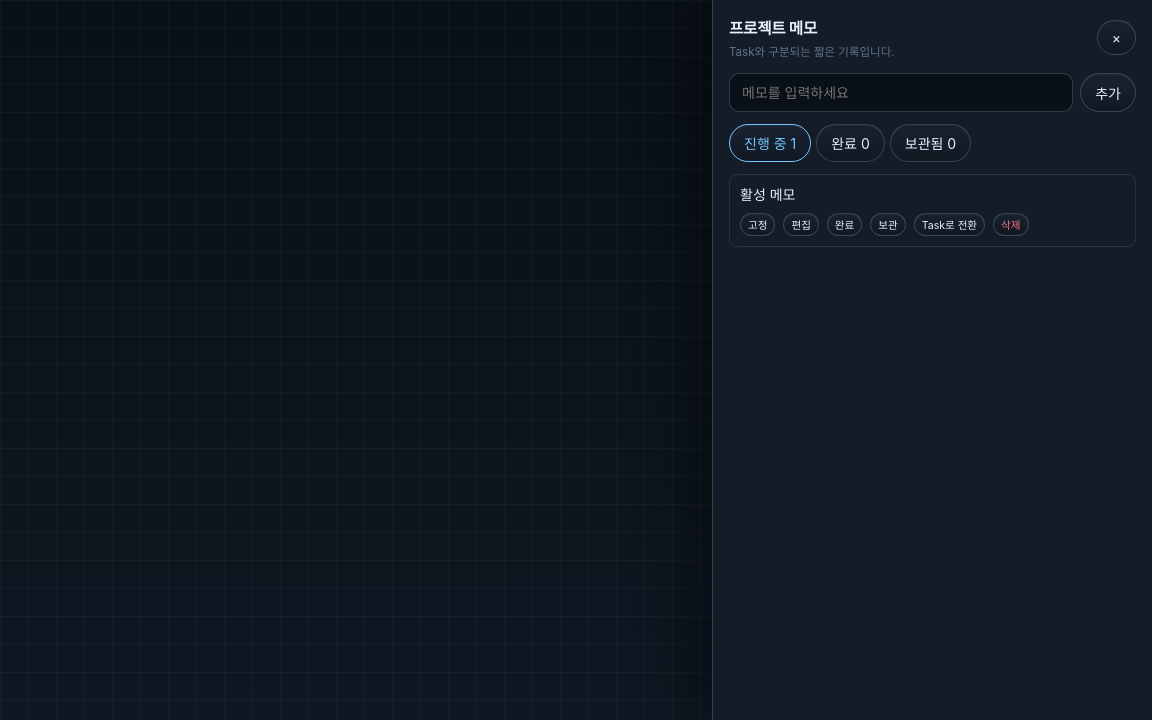
Test: ProjectNotesDrawer › keeps the edit draft visible when an update fails
This screenshot has width=1152, height=720.
Click the button "편집" at (801, 225), box top-left (783, 213), bottom-right (819, 236)
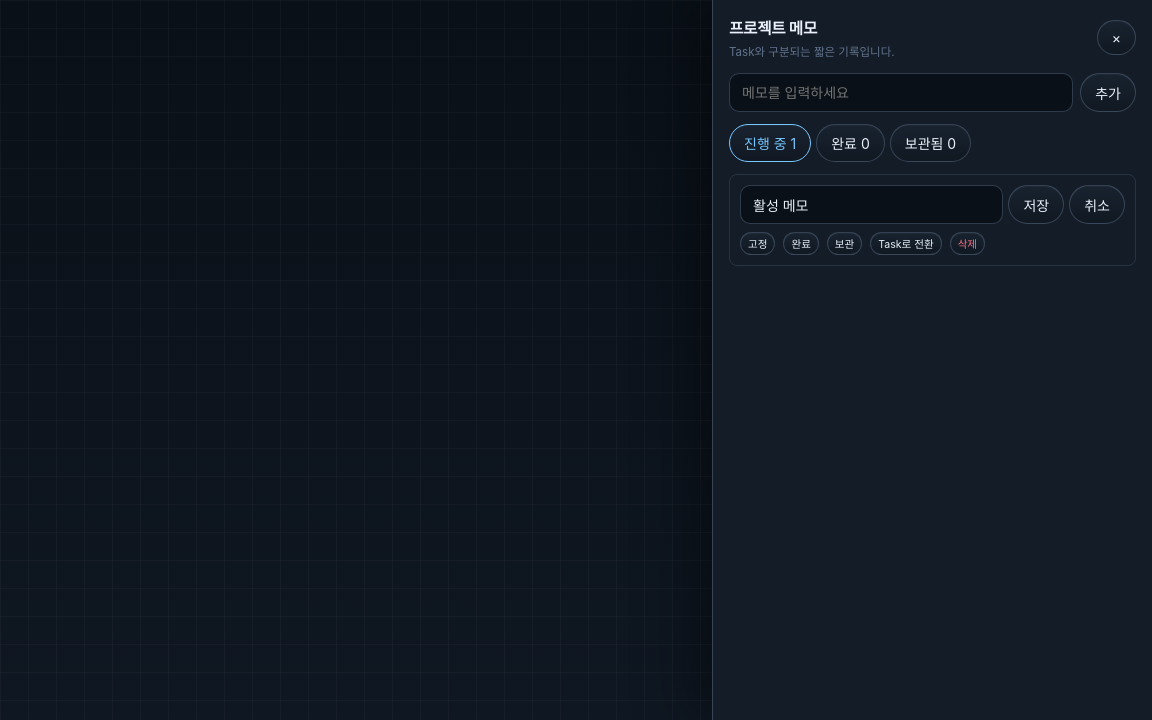
Replace the text in the field named "활성 메모 메모 편집" with "지워지면 안 됨" at (872, 204), box top-left (740, 185), bottom-right (1004, 224)
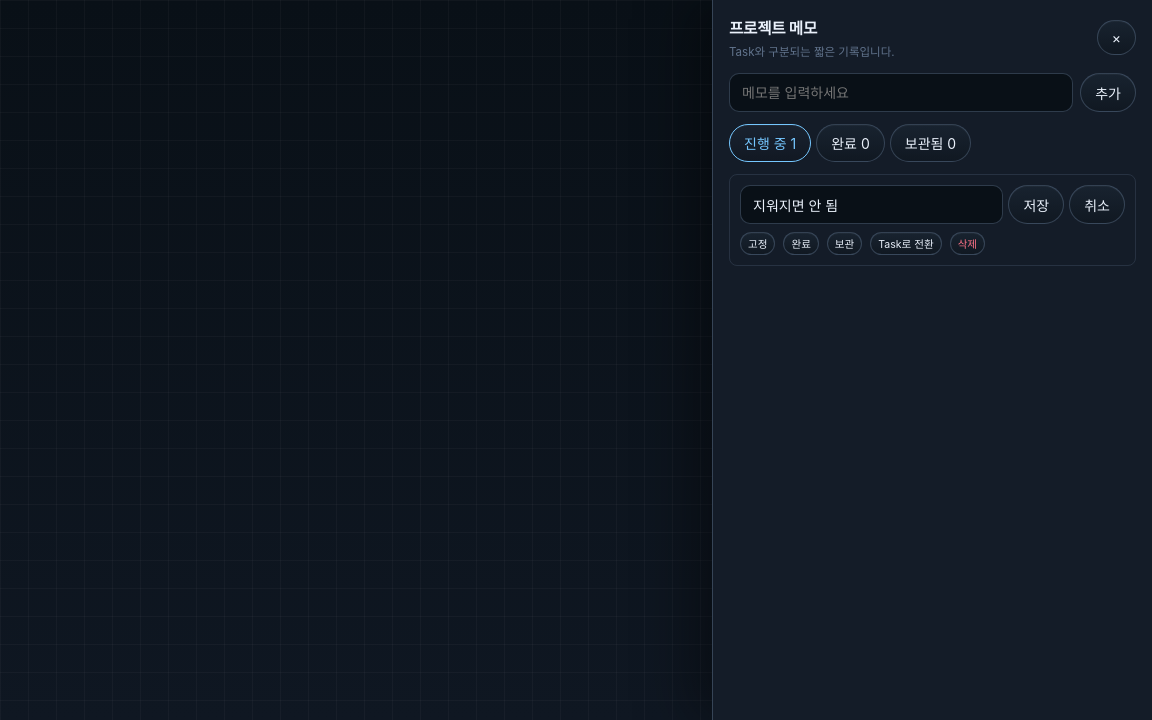
Click the button "저장" at (1036, 204), box top-left (1008, 185), bottom-right (1064, 224)
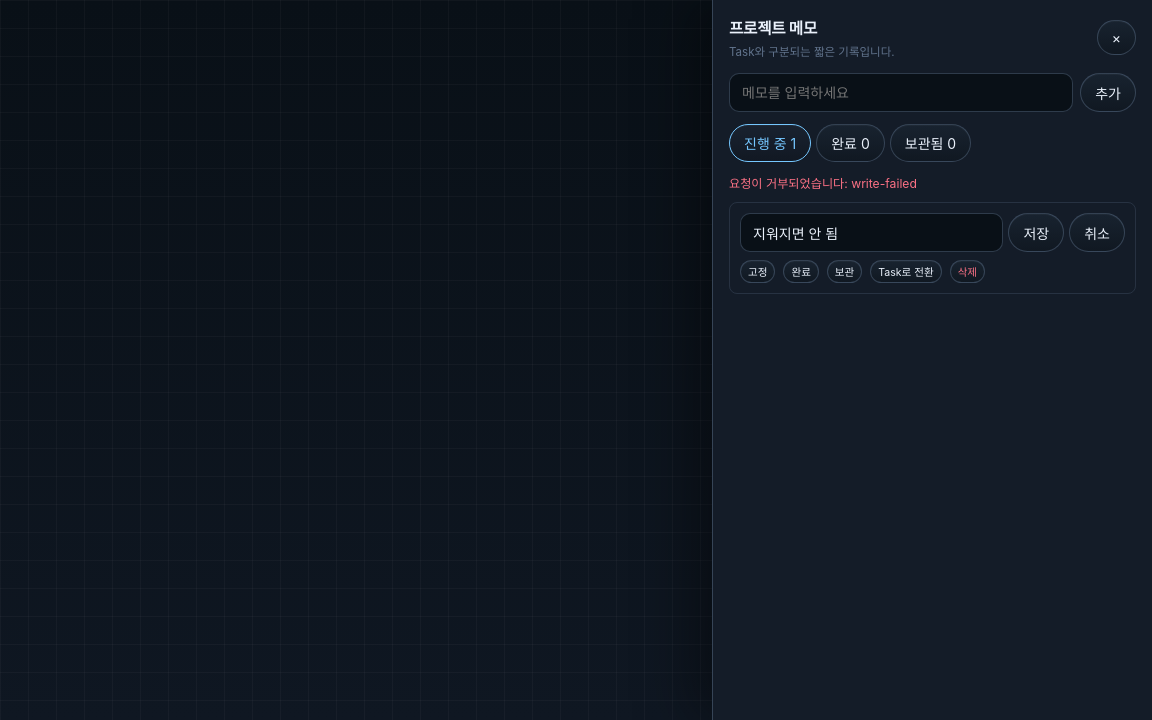
Expected: the message shows "write-failed", top-left (729, 176), bottom-right (917, 191)
